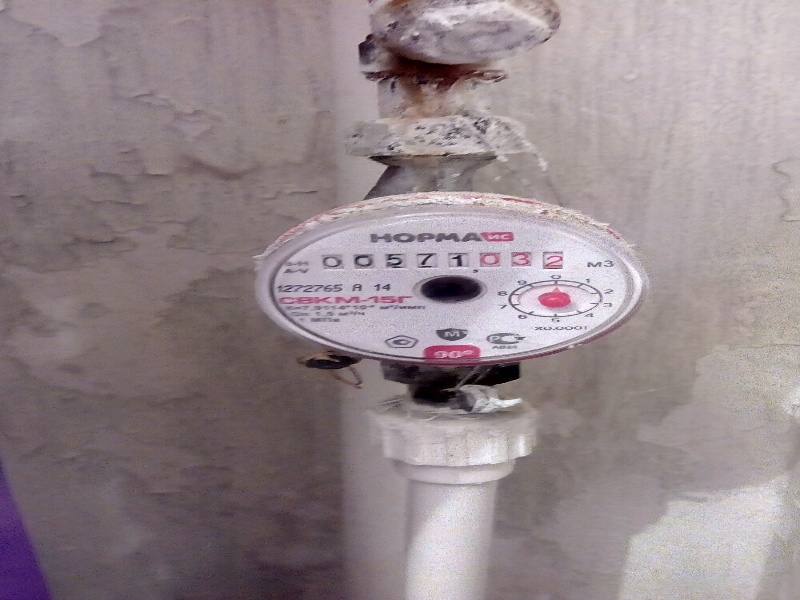dial: (322, 247, 567, 274)
